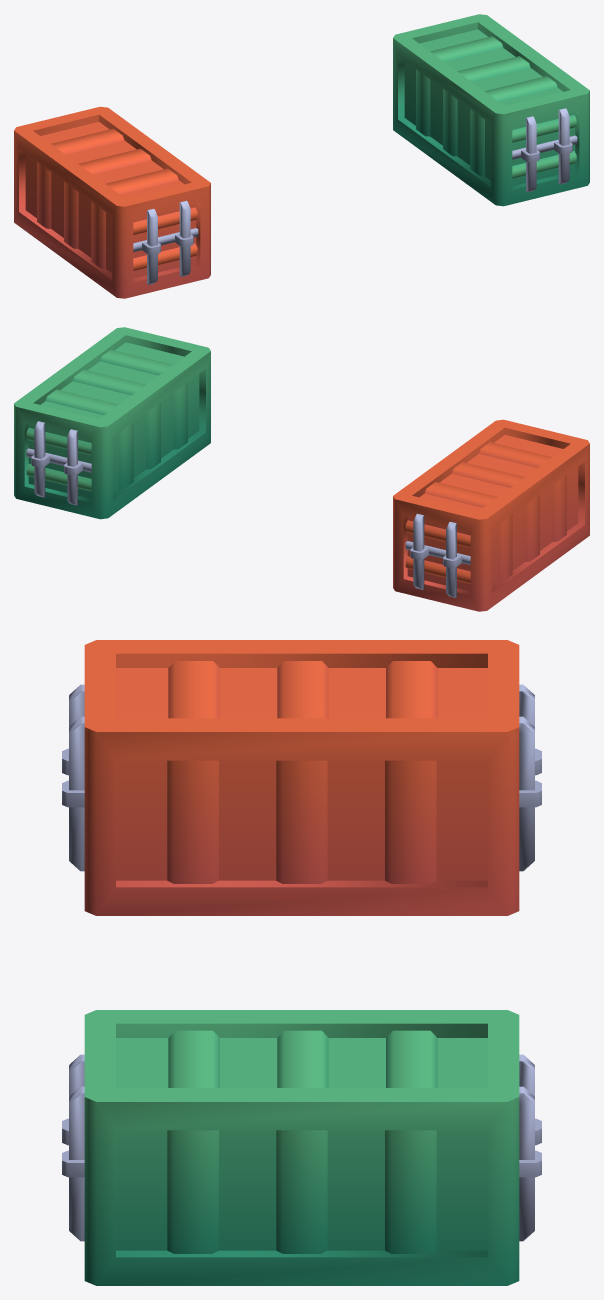
Rendered from barricade.glb.
3 views of the same model, one above another, from view 1: azimuth 30°, elevation 25°; view 2: azimuth 150°, elevation 25°; view 3: azimuth 270°, elevation 25° (orthographic). The views are drawn at different scales.
Parts seen in each view (by area): view 1: barricade; view 2: barricade; view 3: barricade.
Boxes of the visible parts, box(x1,y1,x2,y2) form: barricade: box(14, 14, 589, 298); barricade: box(14, 327, 589, 611); barricade: box(62, 640, 541, 1285).
Bounding box in the file's own units: 11.24 × 2.09 × 4.94.
Materials: 2 (2 with a texture image).
